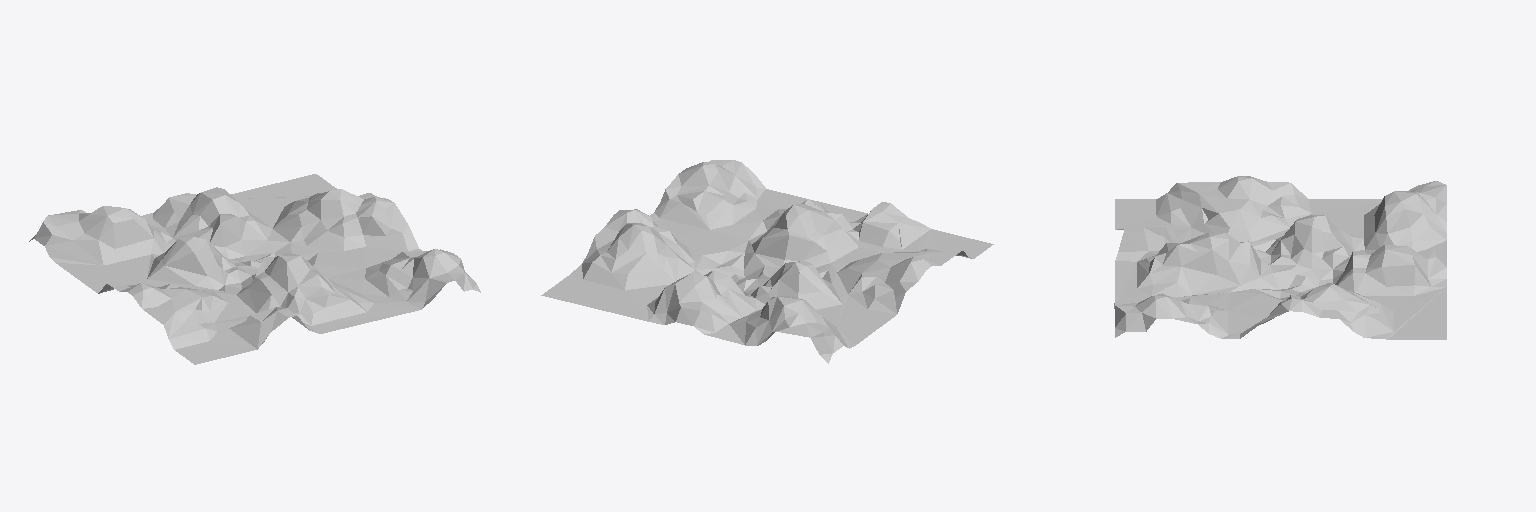
File: map.obj
3 views of the same model, side by side, from view 1: azimuth 30°, elevation 25°; view 2: azimuth 150°, elevation 25°; view 3: azimuth 270°, elevation 25° (orthographic).
Parts seen in each view (by area): view 1: Plane; view 2: Plane; view 3: Plane.
Boxes of the visible parts, box(x1,y1,x2,y2) form: Plane: box(29, 174, 480, 364); Plane: box(541, 160, 993, 363); Plane: box(1114, 176, 1446, 339).
Bounding box in the file's own units: 46.26 × 7.27 × 46.45.